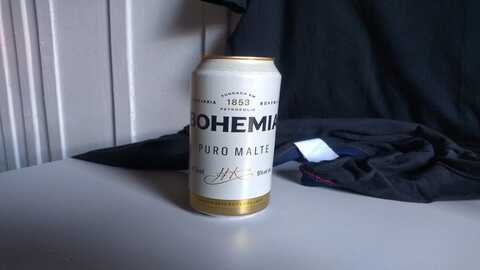bohemia: (188, 51, 278, 211)
